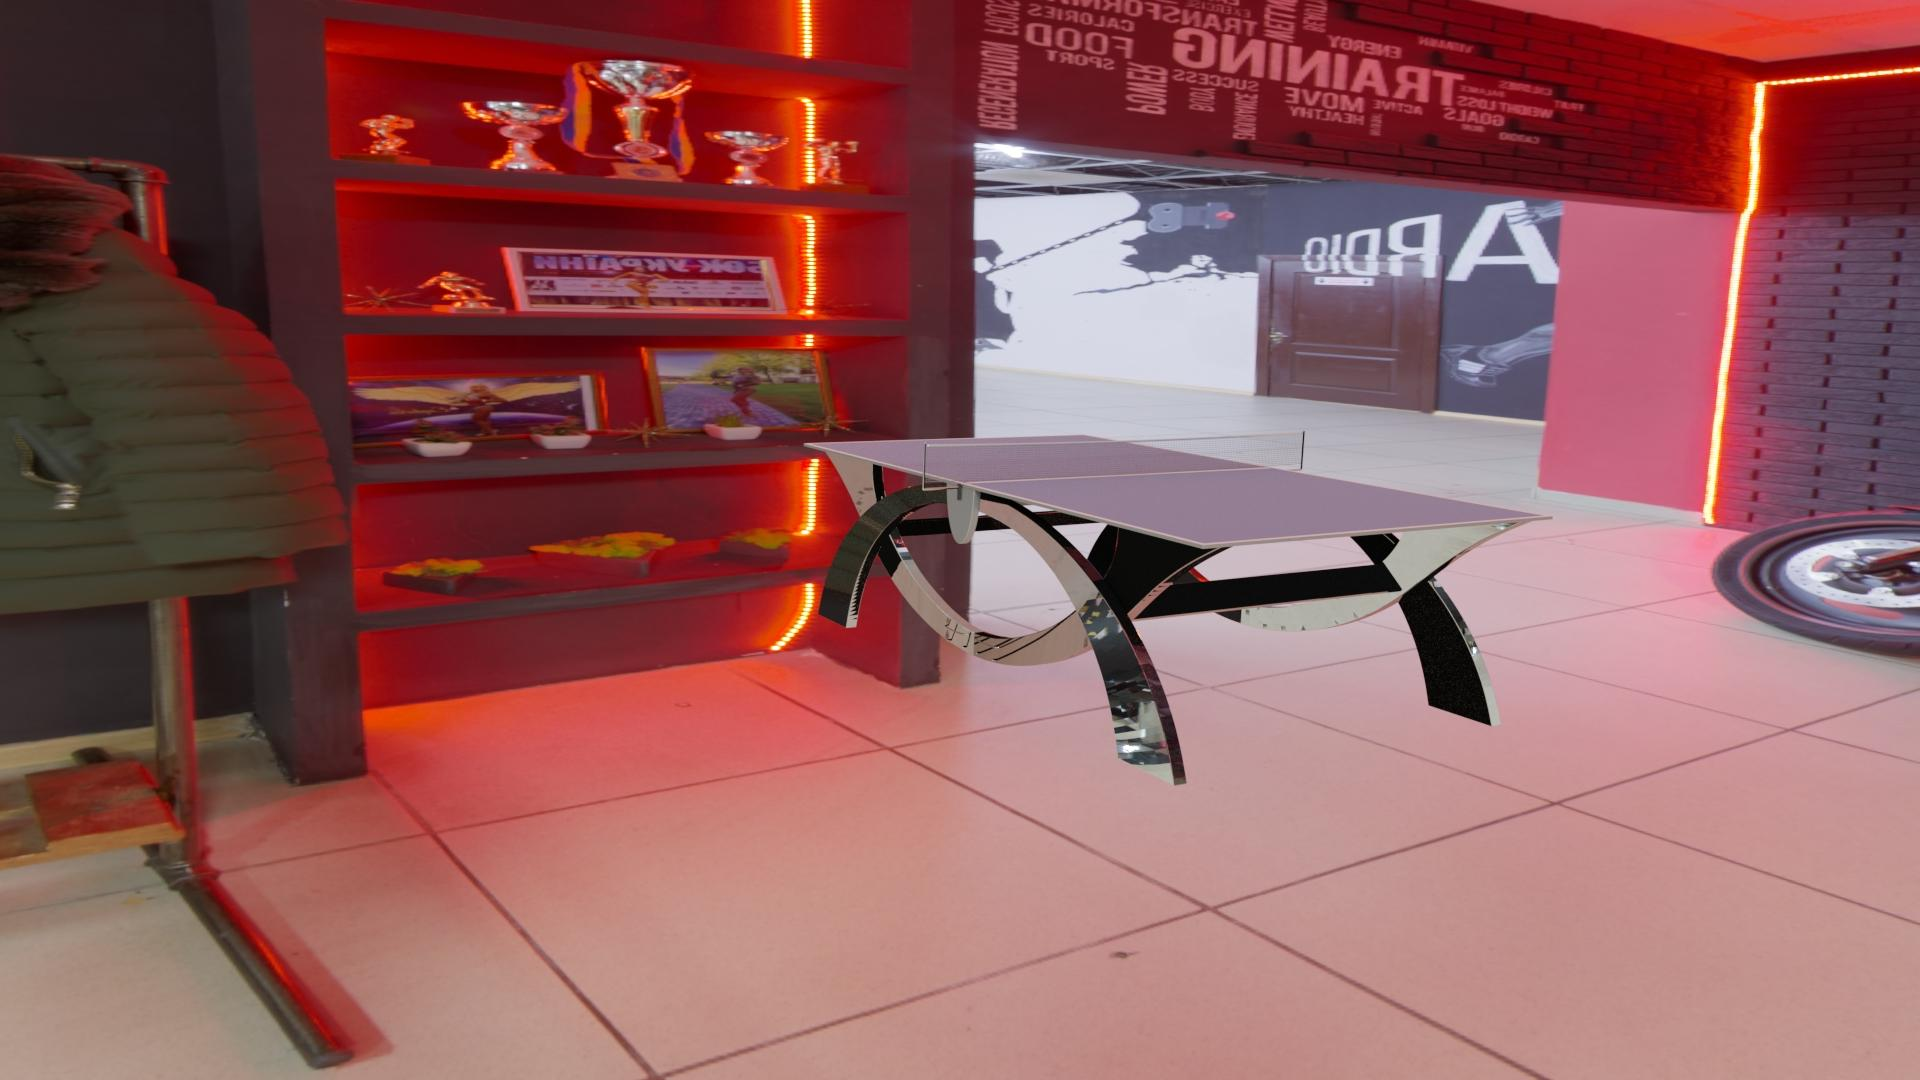table: (810, 435, 1544, 544)
